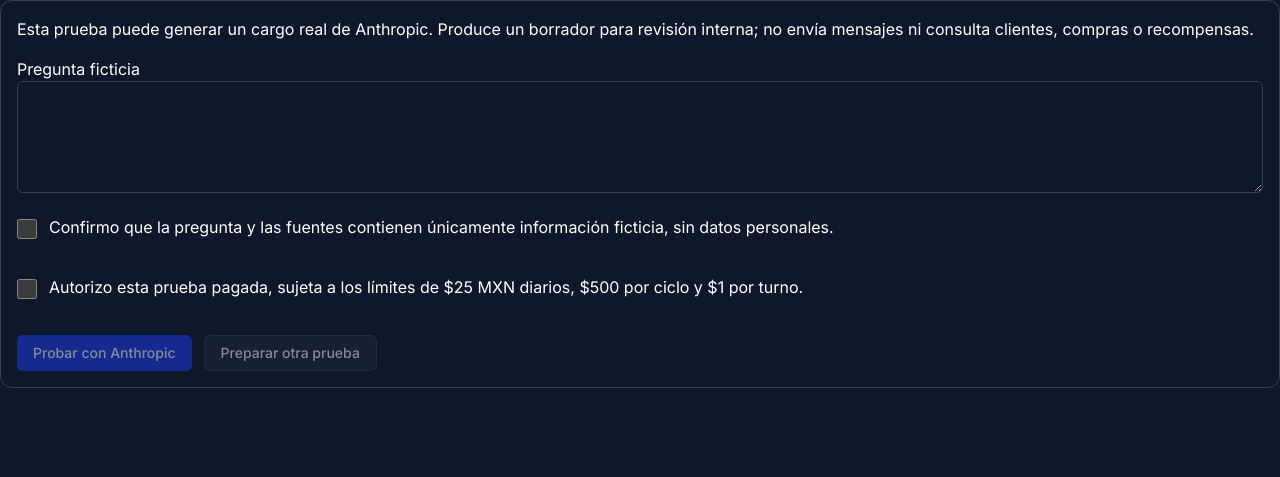
Test: requires fictional information and cost acceptance before submitting
Expected: the button "Probar con Anthropic" is disabled, 17,335 -> 192,371
Type "horario ficticio" into the text box labelled "Pregunta ficticia" at (640, 137), box 17,81 -> 1263,193
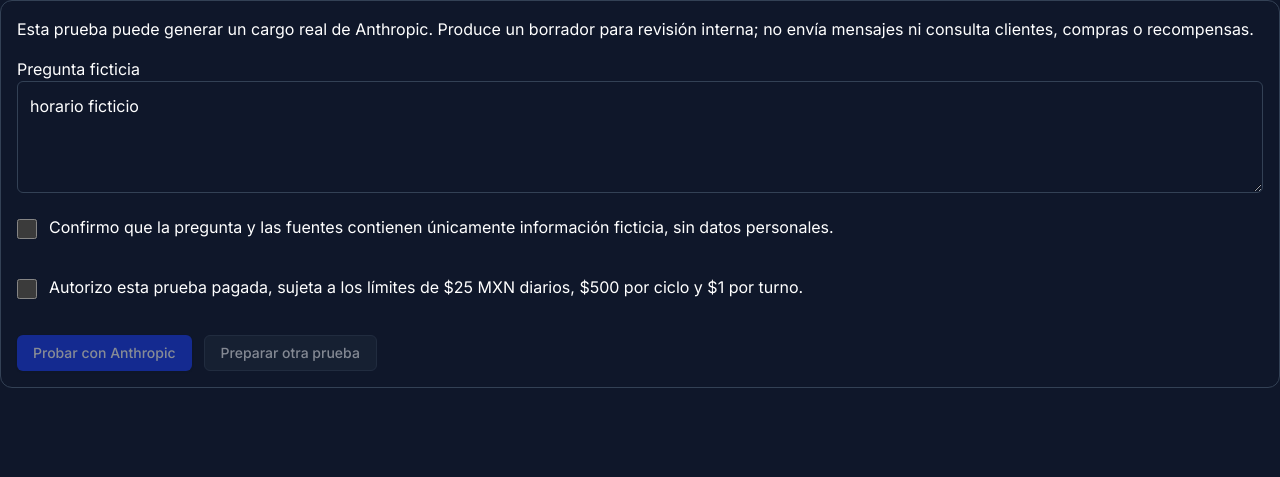
Click the 1st checkbox at (27, 229), box 17,219 -> 37,239
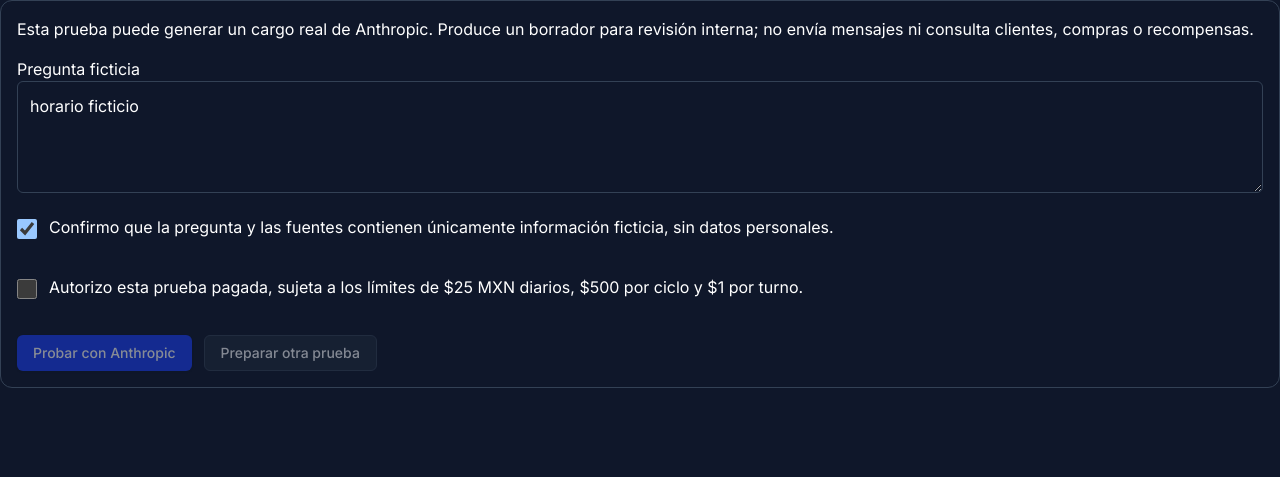
Click the 2nd checkbox at (27, 289), box 17,279 -> 37,299
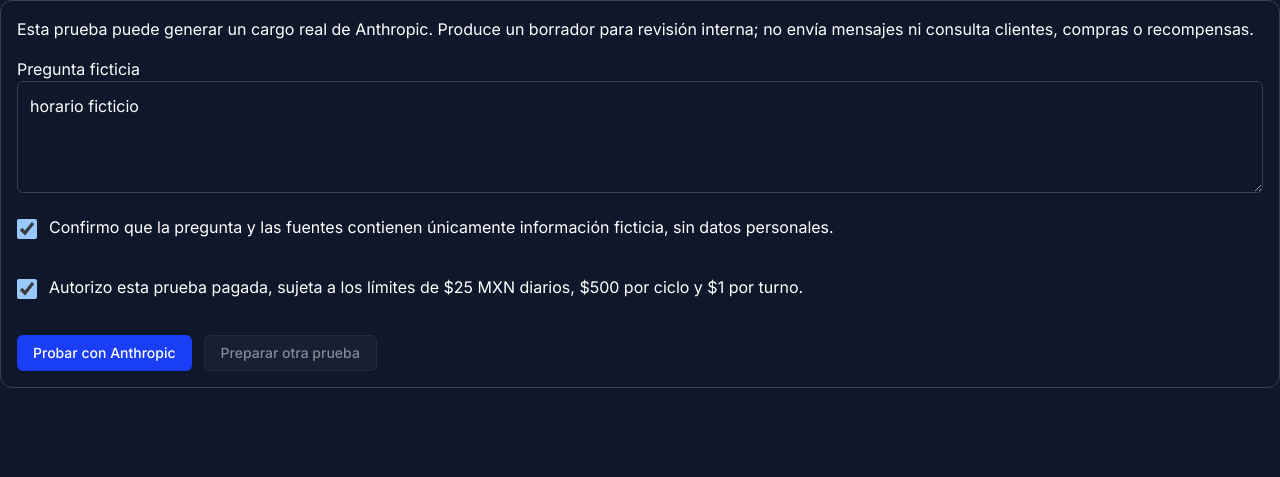
Click the button "Probar con Anthropic" at (104, 353), box 17,335 -> 192,371
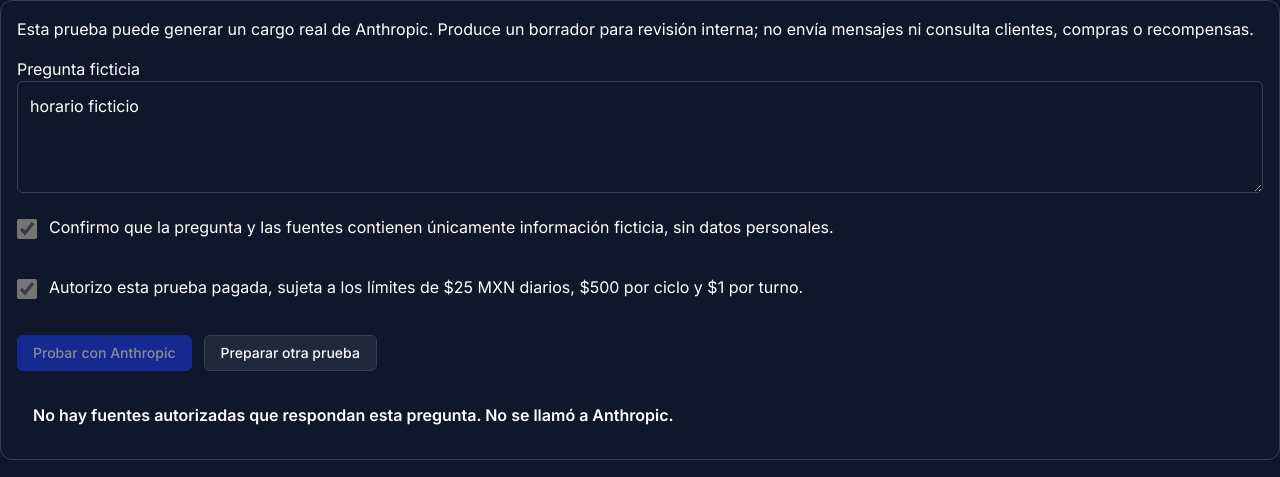
Expected: the message shows "No se llamó a Anthropic", 33,405 -> 674,425
